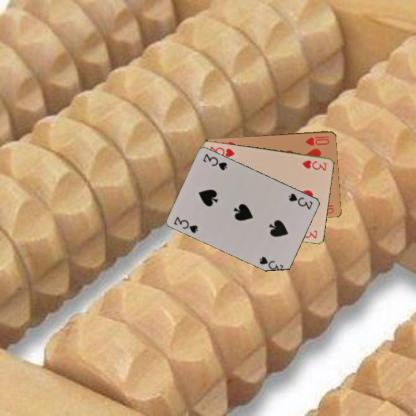10h: (302, 133, 330, 147)
3h: (300, 157, 328, 172)
3s: (286, 190, 314, 210), (172, 214, 200, 234)
